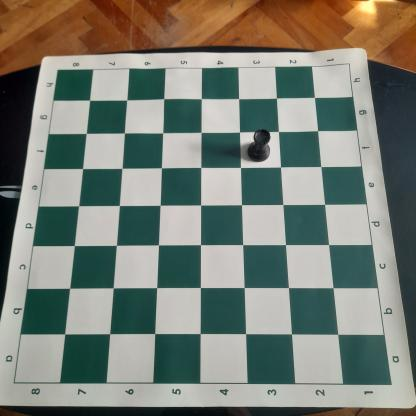black-rook: (245, 128, 276, 162)
